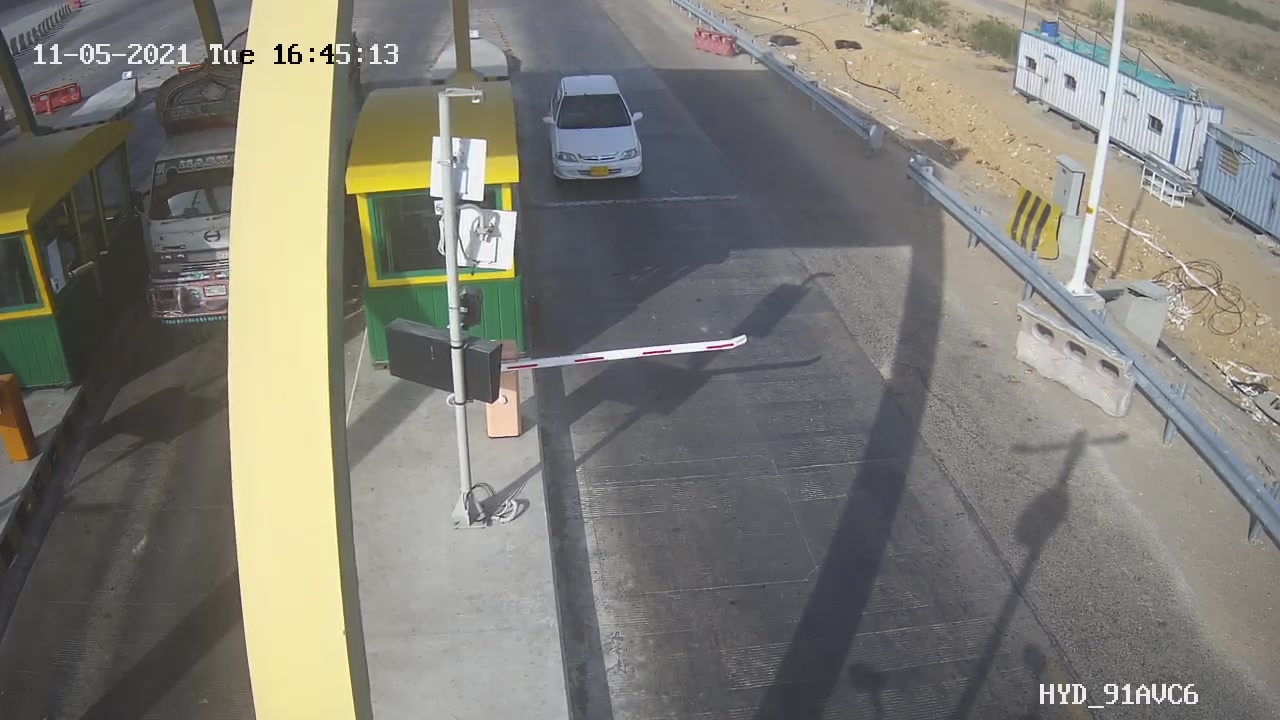F1: (525, 62, 677, 201)
